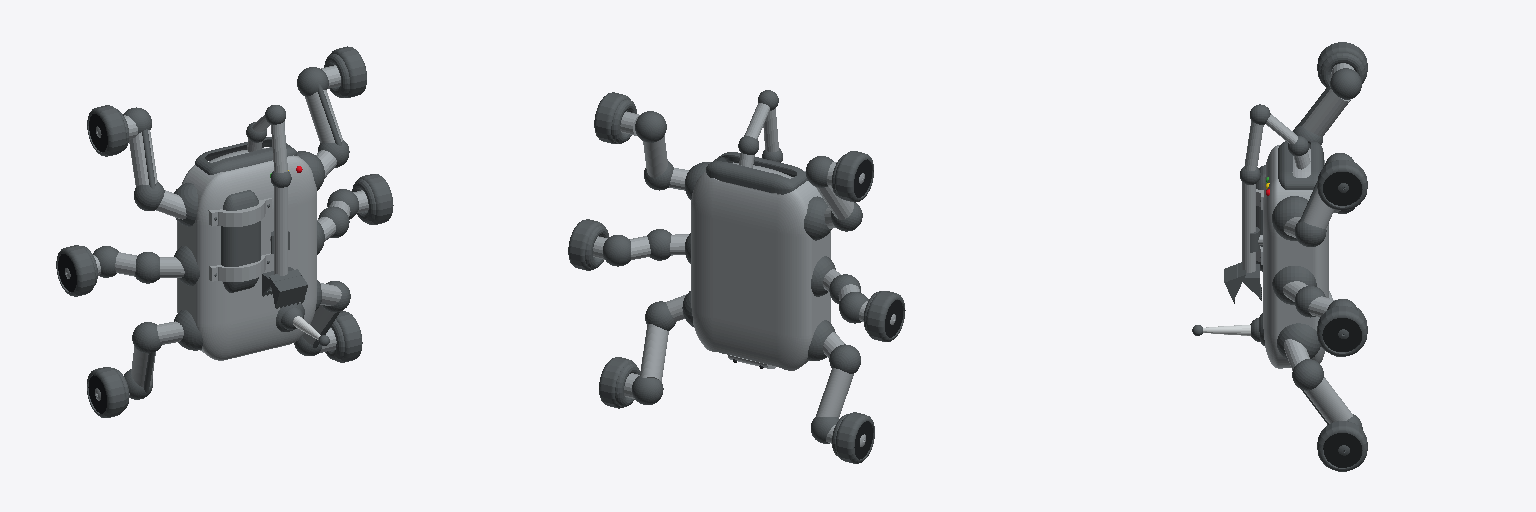
The model's file is tinker.obj.
The picture shows the model from 3 angles: view 1: azimuth 30°, elevation 25°; view 2: azimuth 150°, elevation 25°; view 3: azimuth 270°, elevation 25°; orthographic projection.
Parts seen in each view (by area): view 1: obj_0; view 2: obj_0; view 3: obj_0.
Boxes of the visible parts, x1,y1,x2,y2 form: obj_0: [56, 46, 393, 417]; obj_0: [568, 90, 905, 463]; obj_0: [1192, 42, 1367, 471].
Size of the model in its own units: 160 by 150 by 77.1.